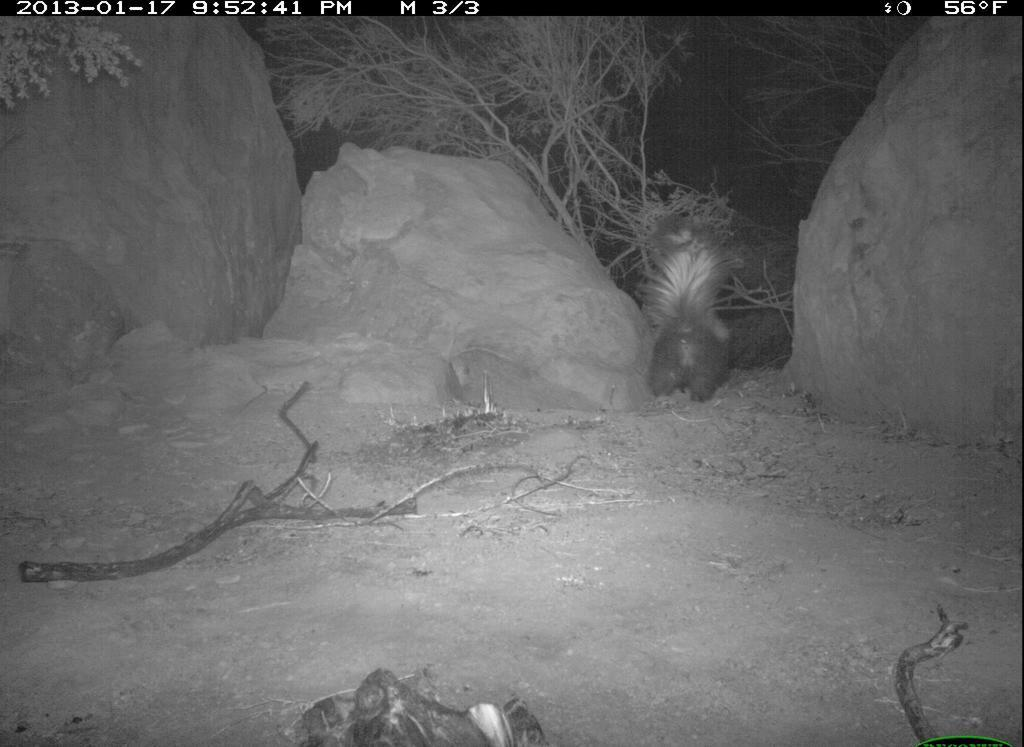skunk: (644, 218, 747, 405)
